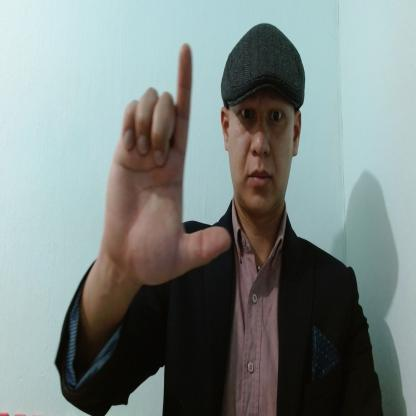L: (105, 42, 230, 282)
